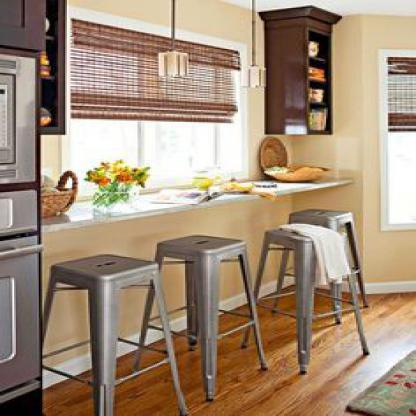chair: (40, 254, 174, 416), (157, 233, 258, 402), (259, 228, 368, 377), (274, 205, 367, 313)
clock: (305, 32, 324, 63)
light: (153, 0, 193, 91), (240, 0, 271, 96)
